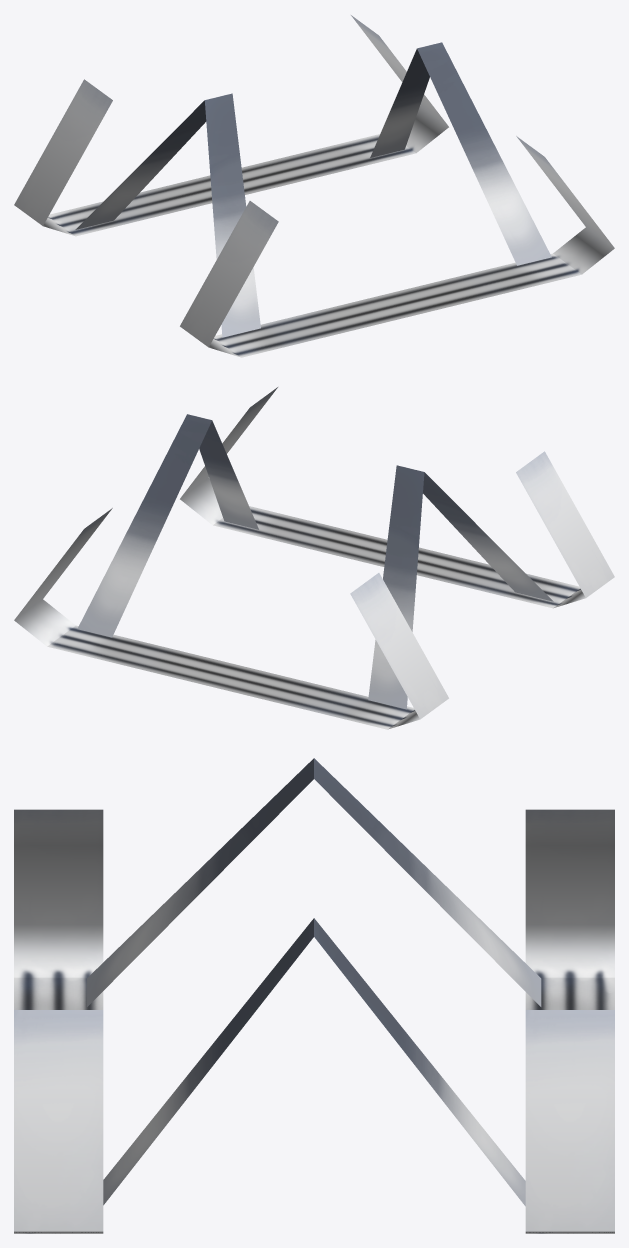
File: drone_legs_01.fbx
The picture shows the model from 3 angles, top to bottom: view 1: azimuth 30°, elevation 25°; view 2: azimuth 150°, elevation 25°; view 3: azimuth 270°, elevation 25°; orthographic projection. The views are drawn at different scales.
Parts seen in each view (by area): view 1: drone_l_leg2, drone_leg_support, drone_l_leg3, drone_leg_support1; view 2: drone_l_leg2, drone_leg_support, drone_l_leg3, drone_leg_support1; view 3: drone_l_leg2, drone_leg_support, drone_l_leg3, drone_leg_support1.
Part boxes in pixels (left/top/right/bottom): drone_l_leg2: left=14, top=15, right=614, bottom=357; drone_leg_support: left=75, top=42, right=551, bottom=337; drone_l_leg3: left=14, top=20, right=613, bottom=356; drone_leg_support1: left=79, top=43, right=550, bottom=334; drone_l_leg2: left=14, top=387, right=614, bottom=729; drone_leg_support: left=77, top=414, right=553, bottom=709; drone_l_leg3: left=16, top=390, right=613, bottom=728; drone_leg_support1: left=79, top=414, right=549, bottom=706; drone_l_leg2: left=14, top=809, right=614, bottom=1233; drone_leg_support: left=87, top=758, right=541, bottom=1206; drone_l_leg3: left=14, top=812, right=614, bottom=1233; drone_leg_support1: left=87, top=759, right=541, bottom=1204.
Size of the model in its own units: 2.9 by 1.17 by 2.41.
